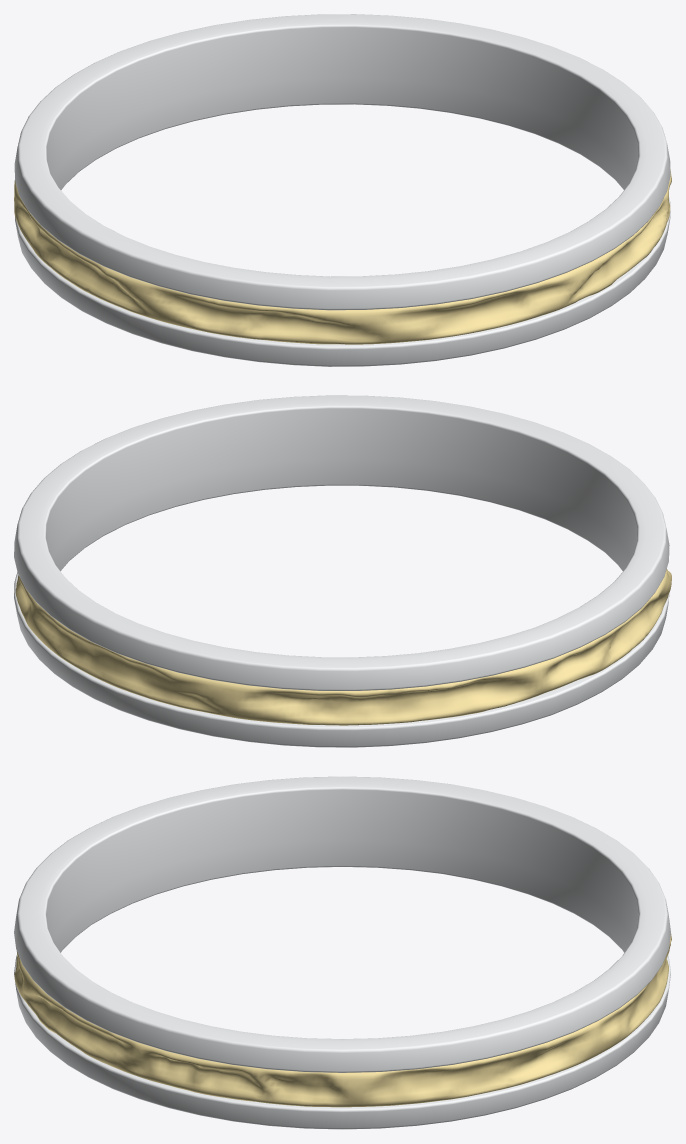
3 renders of one model, top to bottom at view 1: azimuth 30°, elevation 25°; view 2: azimuth 150°, elevation 25°; view 3: azimuth 270°, elevation 25°, orthographic.
Parts seen in each view (by area): view 1: Base_Metal, Engraving_Mesh, Finishing_Metal; view 2: Base_Metal, Engraving_Mesh, Finishing_Metal; view 3: Base_Metal, Engraving_Mesh, Finishing_Metal.
Part boxes in pixels (box(x1,y1,x2,y2)): Base_Metal: box(14, 14, 670, 366); Engraving_Mesh: box(44, 24, 640, 276); Finishing_Metal: box(14, 169, 671, 344); Base_Metal: box(14, 395, 669, 747); Engraving_Mesh: box(43, 405, 639, 657); Finishing_Metal: box(15, 569, 671, 725); Base_Metal: box(14, 776, 670, 1129); Engraving_Mesh: box(44, 787, 641, 1039); Finishing_Metal: box(14, 934, 671, 1107).
Size of the model in its own units: 2.62 by 0.35 by 2.61.
